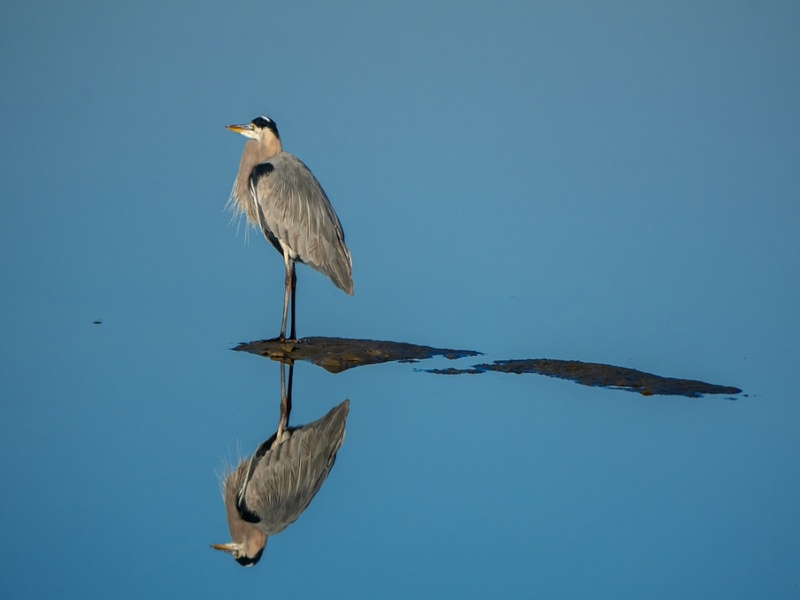heron: (203, 353, 358, 580), (223, 111, 368, 351)
